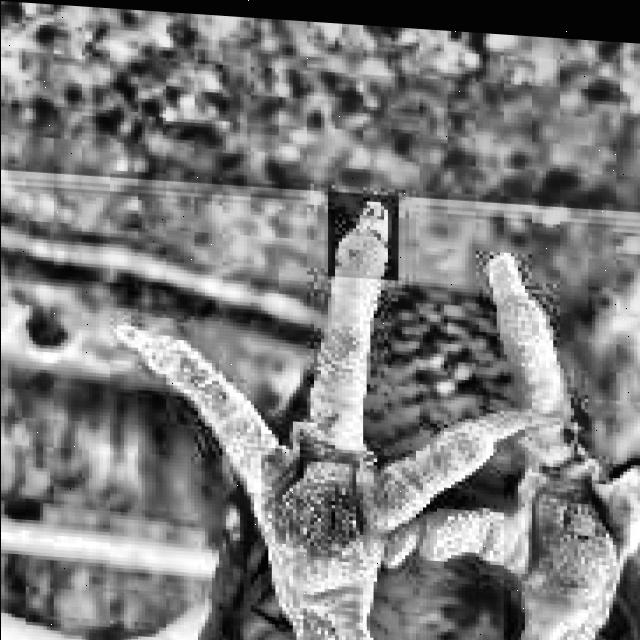Bumble foot: (106, 178, 560, 640)
